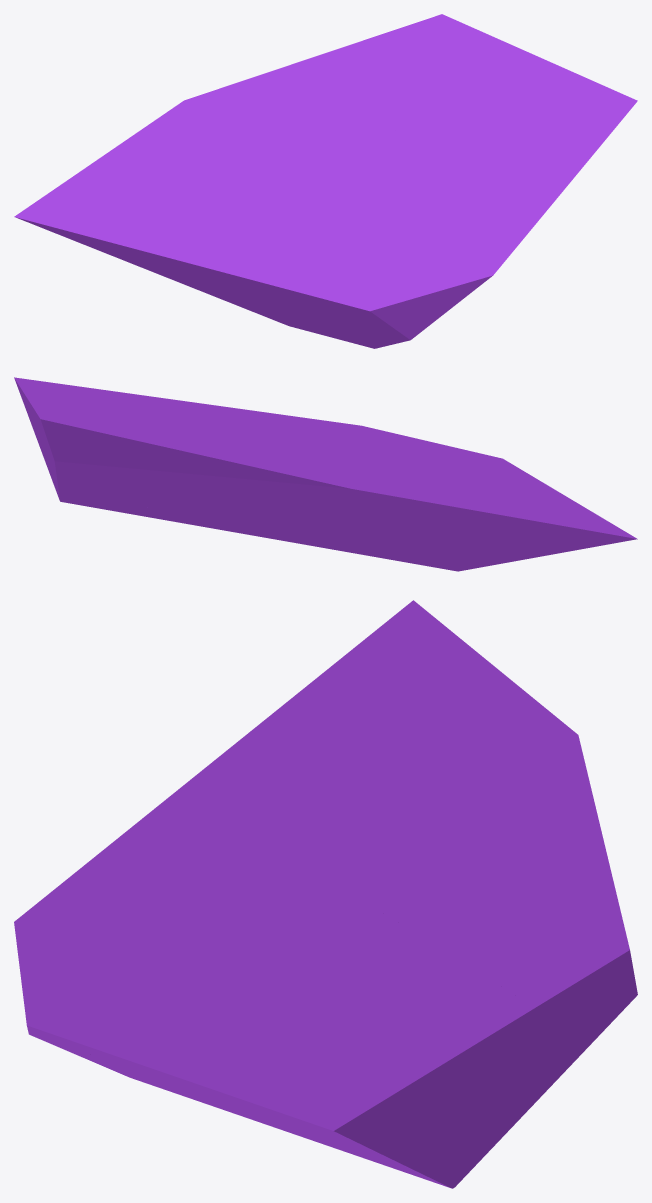
Rendered from Window_148_3_chunks.fbx.
3 views of the same model, one above another, from view 1: azimuth 30°, elevation 25°; view 2: azimuth 150°, elevation 25°; view 3: azimuth 270°, elevation 25° (orthographic). The views are drawn at different scales.
Visible parts, largest first — view 1: Window_148_3_2, Window_148_3_3, Window_148_3_0, Window_148_3_1; view 2: Window_148_3_0, Window_148_3_2, Window_148_3_3, Window_148_3_1; view 3: Window_148_3_2, Window_148_3_3, Window_148_3_0, Window_148_3_1.
Part boxes in pixels (box(x1,y1,x2,y2)): Window_148_3_2: box(14, 129, 486, 348); Window_148_3_3: box(357, 42, 637, 264); Window_148_3_0: box(143, 14, 504, 161); Window_148_3_1: box(479, 242, 520, 281); Window_148_3_0: box(32, 406, 420, 534); Window_148_3_2: box(295, 427, 637, 571); Window_148_3_3: box(14, 377, 357, 450); Window_148_3_1: box(27, 414, 368, 546); Window_148_3_2: box(14, 600, 537, 1097); Window_148_3_3: box(57, 893, 534, 1146); Window_148_3_0: box(351, 702, 637, 1138); Window_148_3_1: box(26, 1011, 500, 1188).
Size of the model in its own units: 690 by 195 by 359.
